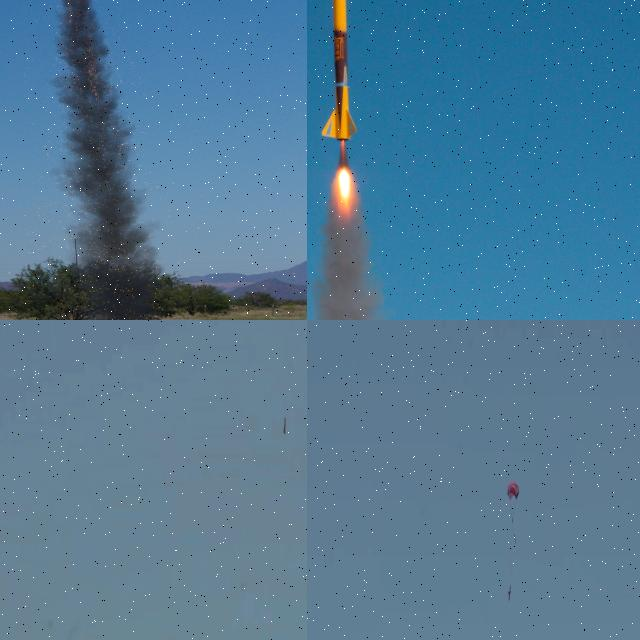Rocket: (321, 0, 357, 142), (283, 418, 286, 434)
